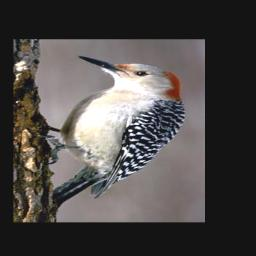Woodpecker: (39, 55, 186, 200)
